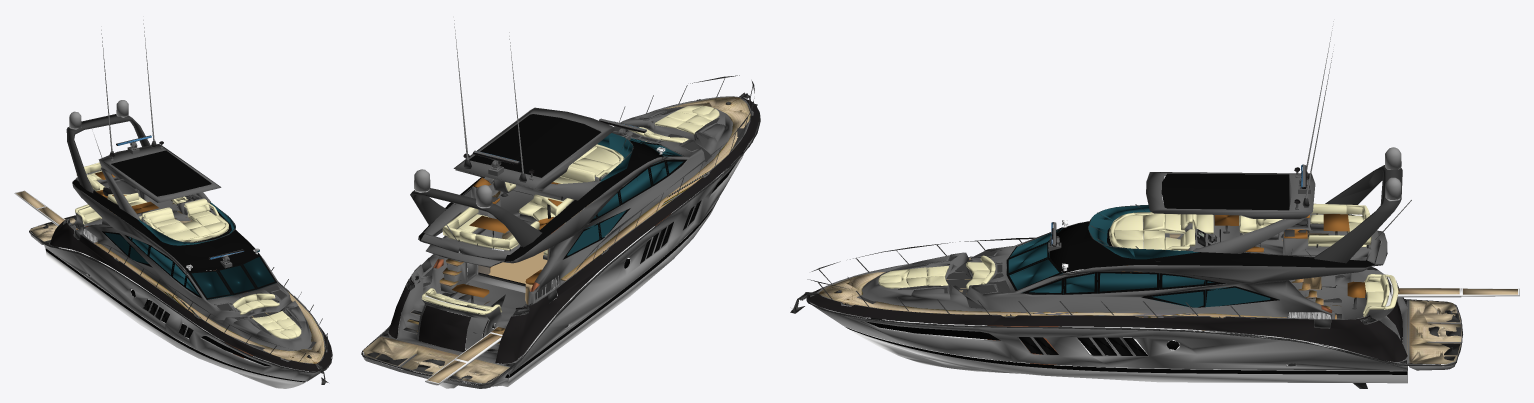
File: lux-yacht.lod1.glb
3 views of the same model, side by side, from view 1: azimuth 30°, elevation 25°; view 2: azimuth 150°, elevation 25°; view 3: azimuth 270°, elevation 25° (orthographic). The views are drawn at different scales.
Parts seen in each view (by area): view 1: Object_5, Object_6, Object_9, Object_87, Object_4, Object_10, Object_77, Object_45; view 2: Object_6, Object_5, Object_10, Object_9, Object_77, Object_4, Object_87, Object_45; view 3: Object_6, Object_5, Object_9, Object_10, Object_4, Object_87, Object_45, Object_77.
Boxes of the visible parts, x1=… form: Object_5: x1=30, y1=115, x2=332, y2=382; Object_6: x1=33, y1=20, x2=326, y2=371; Object_9: x1=30, y1=100, x2=330, y2=381; Object_87: x1=75, y1=162, x2=301, y2=339; Object_4: x1=29, y1=114, x2=332, y2=384; Object_10: x1=50, y1=136, x2=331, y2=371; Object_77: x1=16, y1=191, x2=324, y2=363; Object_45: x1=14, y1=174, x2=307, y2=388; Object_6: x1=363, y1=20, x2=754, y2=383; Object_5: x1=362, y1=101, x2=760, y2=385; Object_10: x1=388, y1=96, x2=759, y2=363; Object_9: x1=363, y1=112, x2=758, y2=388; Object_77: x1=363, y1=97, x2=750, y2=383; Object_4: x1=361, y1=75, x2=760, y2=385; Object_87: x1=421, y1=105, x2=719, y2=314; Object_45: x1=417, y1=147, x2=728, y2=388; Object_6: x1=810, y1=21, x2=1461, y2=364; Object_5: x1=806, y1=164, x2=1462, y2=374; Object_9: x1=810, y1=147, x2=1455, y2=370; Object_10: x1=807, y1=165, x2=1407, y2=361; Object_4: x1=790, y1=165, x2=1462, y2=388; Object_87: x1=878, y1=203, x2=1398, y2=316; Object_45: x1=847, y1=220, x2=1519, y2=383; Object_77: x1=819, y1=231, x2=1517, y2=364.
Size of the model in its own units: 8.49 by 21.22 by 39.99.
Materials: 9 (4 with a texture image).
